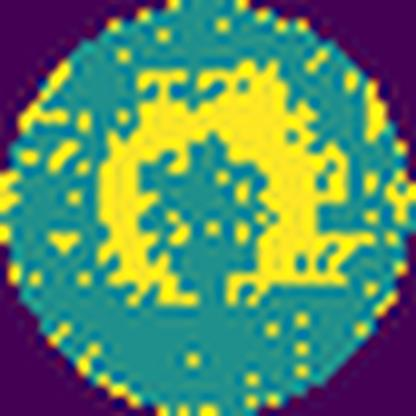Donut: (92, 53, 379, 308)
